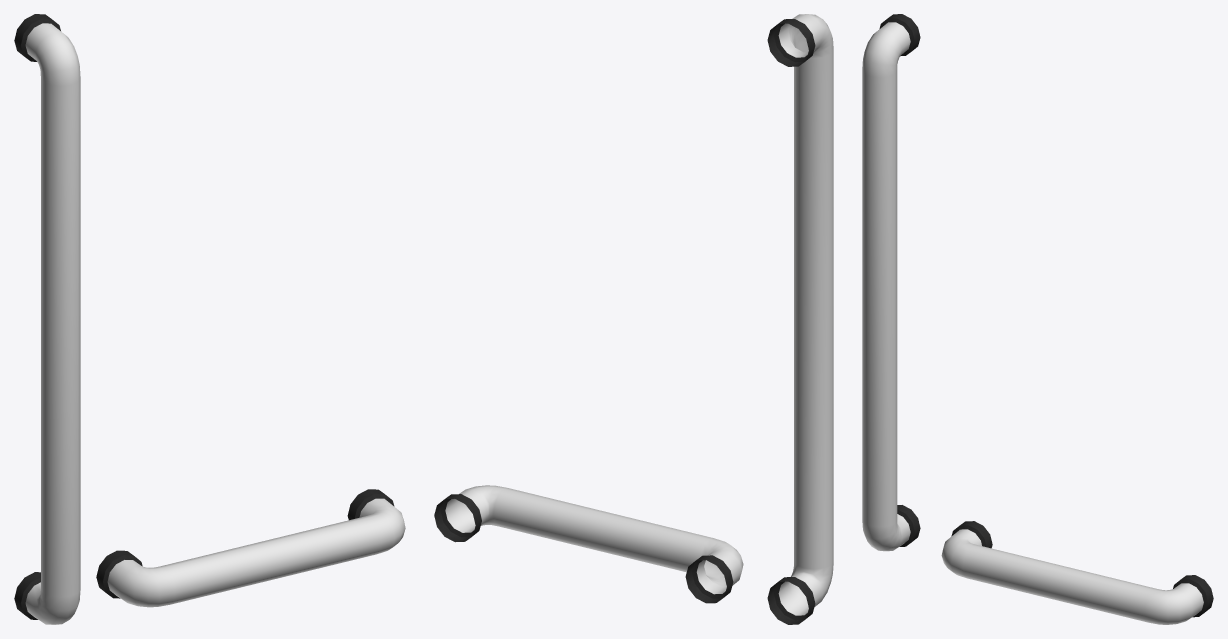
The model's file is LettersNeon01_L.FBX.
3 views of the same model, side by side, from view 1: azimuth 30°, elevation 25°; view 2: azimuth 150°, elevation 25°; view 3: azimuth 330°, elevation 25° (orthographic). The views are drawn at different scales.
Visible parts, largest first — view 1: LettersNeon01_L; view 2: LettersNeon01_L; view 3: LettersNeon01_L.
Boxes of the visible parts, x1=… form: LettersNeon01_L: x1=14, y1=14, x2=405, y2=624; LettersNeon01_L: x1=434, y1=14, x2=833, y2=624; LettersNeon01_L: x1=862, y1=14, x2=1213, y2=624.
Size of what is drawn, in the model's own units: 0.328 by 0.503 by 0.054.
